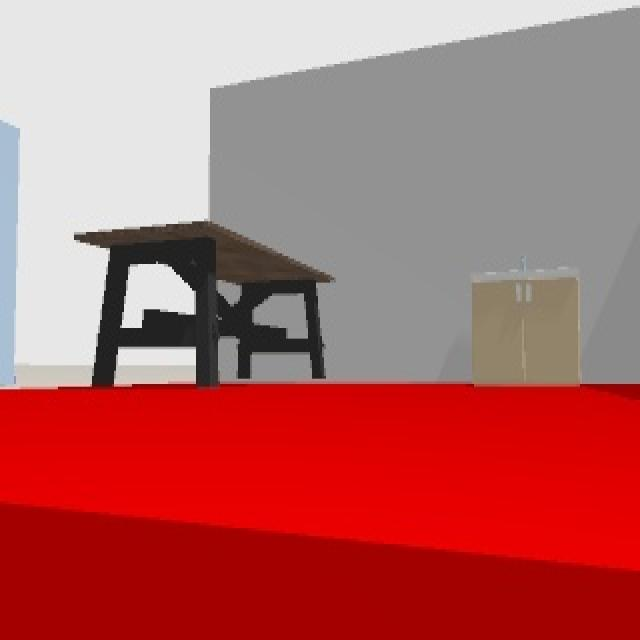dining: (73, 217, 338, 385)
